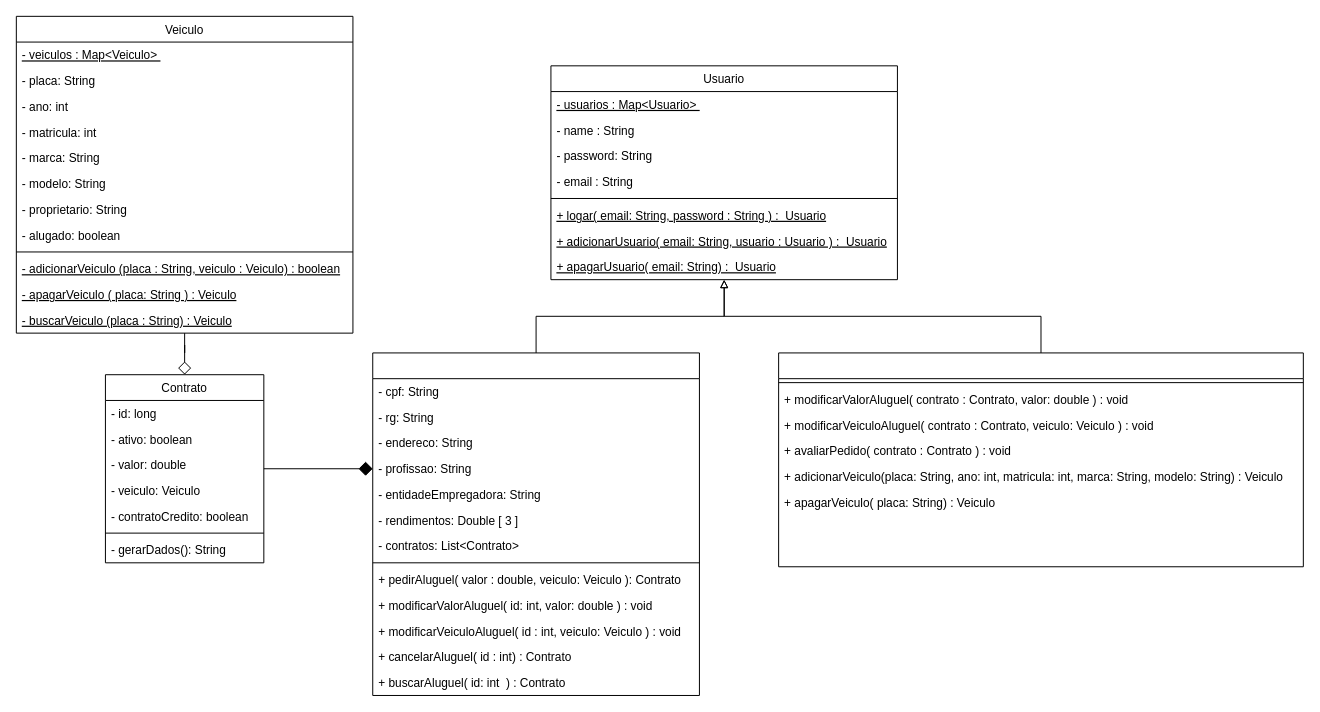
The diagram is 1320 pixels wide and 712 high, and some of its shapes have lost their labels. Each missing label, with the box of its shape:
Agente: (778, 352, 1303, 567)
Cliente: (372, 352, 699, 695)
